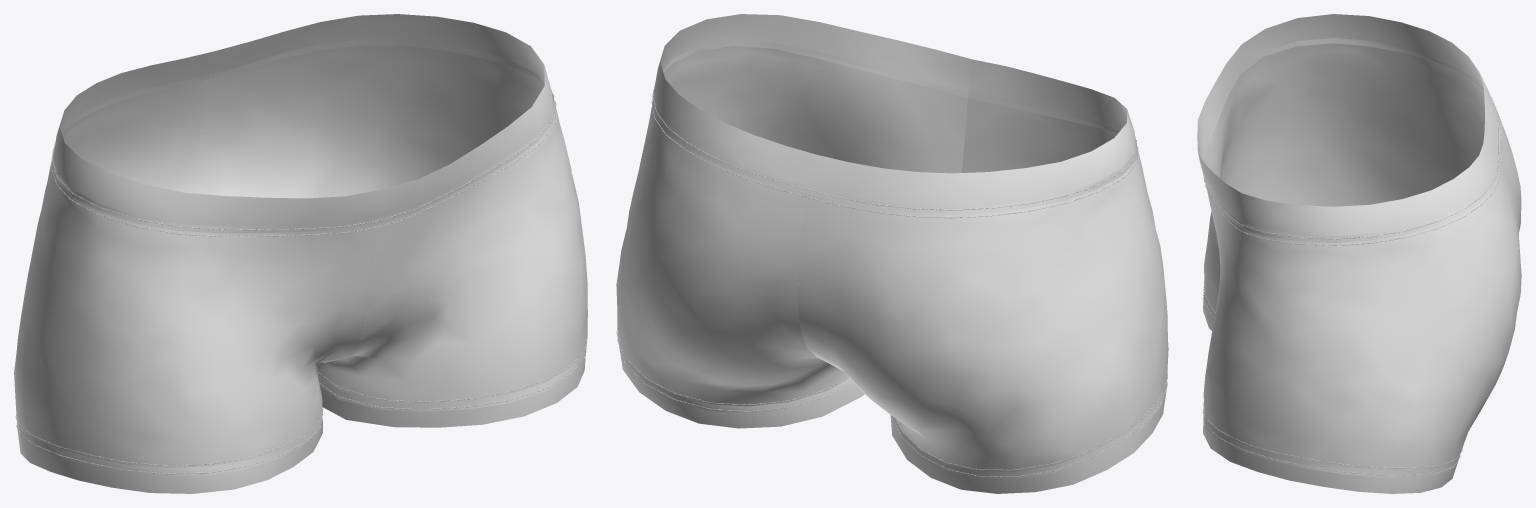
The model's file is Panta BERE.draco.glb.
3 views of the same model, side by side, from view 1: azimuth 30°, elevation 25°; view 2: azimuth 150°, elevation 25°; view 3: azimuth 270°, elevation 25° (orthographic). The views are drawn at different scales.
Parts seen in each view (by area): view 1: PANTA BERE.DX, PANTA BERE.SX, PANTA BERE; view 2: PANTA BERE.DX, PANTA BERE.SX, PANTA BERE; view 3: PANTA BERE.SX, PANTA BERE.DX, PANTA BERE.
Part boxes in pixels (<box>): PANTA BERE.DX: <box>14,50,382,493</box>; PANTA BERE.SX: <box>199,14,587,427</box>; PANTA BERE: <box>15,93,587,474</box>; PANTA BERE.DX: <box>798,59,1168,493</box>; PANTA BERE.SX: <box>616,14,971,428</box>; PANTA BERE: <box>616,83,1168,477</box>; PANTA BERE.SX: <box>1197,118,1521,493</box>; PANTA BERE.DX: <box>1197,14,1521,330</box>; PANTA BERE: <box>1202,97,1501,475</box>.
Size of the model in its own units: 36.72 by 22.56 by 22.11.
3 materials, 1 textured.
